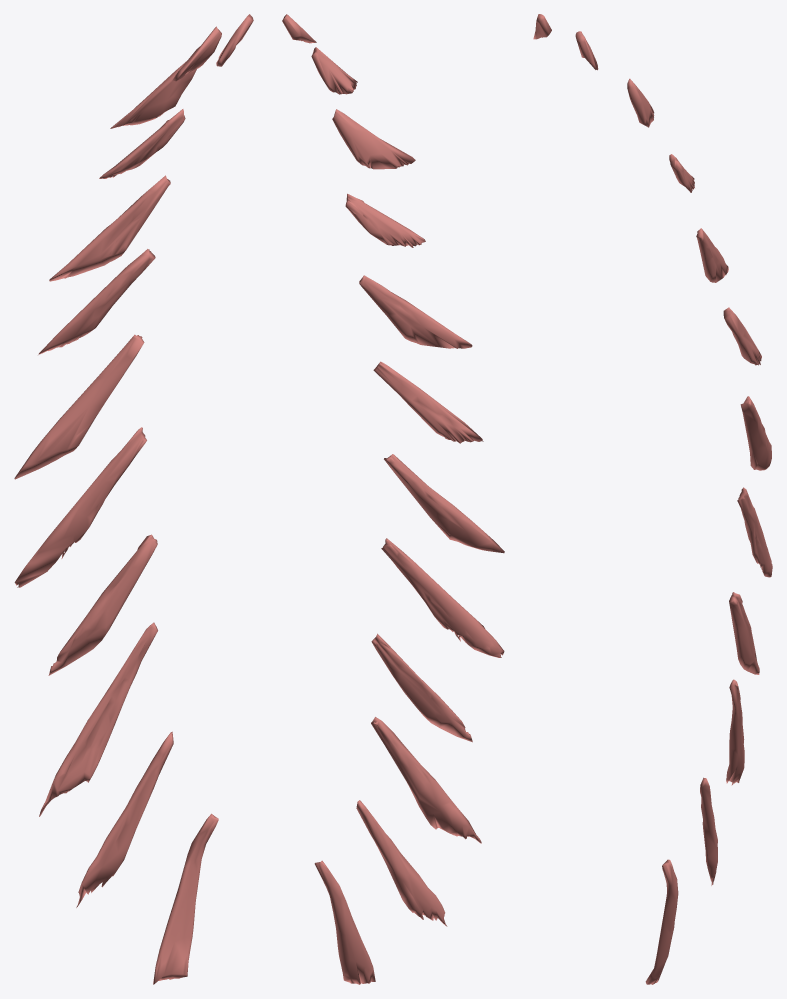
3 renders of one model, left to right at view 1: azimuth 30°, elevation 25°; view 2: azimuth 210°, elevation 25°; view 3: azimuth 270°, elevation 25°, orthographic. The views are drawn at different scales.
Visible parts, largest first — view 1: ZA_c5394a10af28705c; view 2: ZA_c5394a10af28705c; view 3: ZA_c5394a10af28705c.
Part boxes in pixels (x1,y1,x2,y2): ZA_c5394a10af28705c: (14,14,253,984); ZA_c5394a10af28705c: (282,14,504,984); ZA_c5394a10af28705c: (533,14,772,984).
Bounding box in the file's own units: 0.0507 × 0.3231 × 0.0717.
